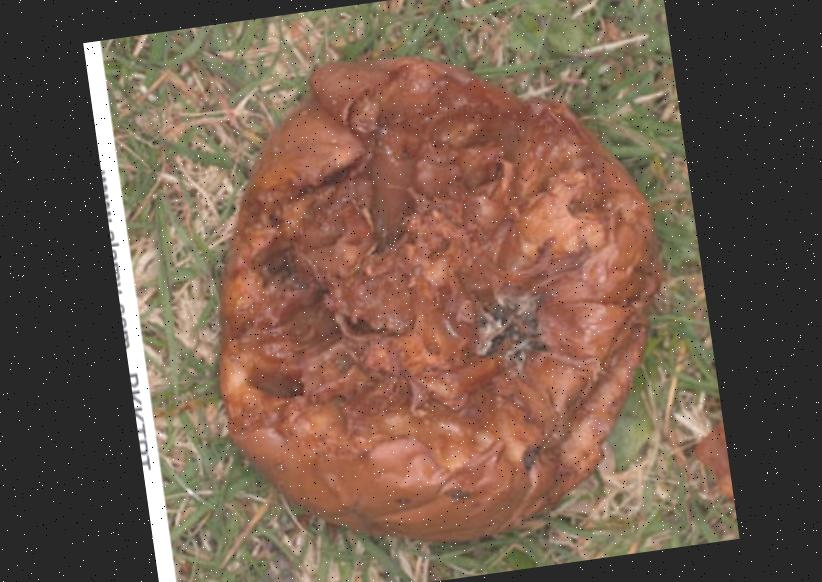ROT: (185, 24, 697, 576)
